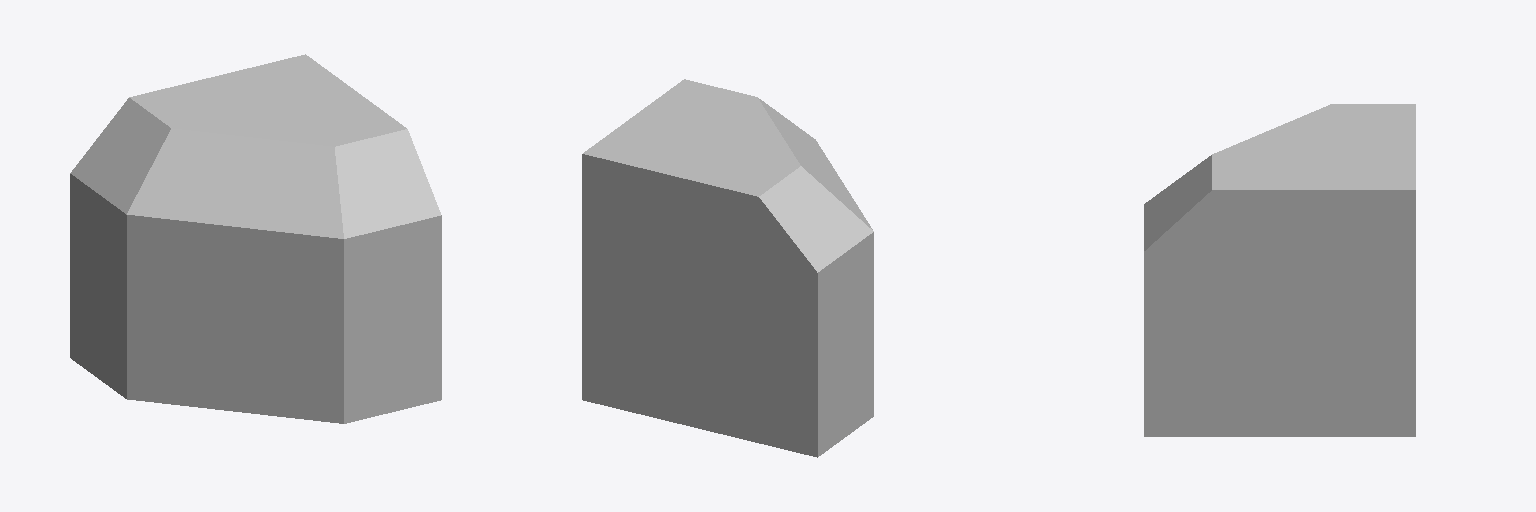
Rendered from struct_wall_joint_base.obj.
3 views of the same model, side by side, from view 1: azimuth 30°, elevation 25°; view 2: azimuth 150°, elevation 25°; view 3: azimuth 270°, elevation 25° (orthographic).
Visible parts, largest first — view 1: struct_wall_joint_base; view 2: struct_wall_joint_base; view 3: struct_wall_joint_base.
Boxes of the visible parts, x1=… form: struct_wall_joint_base: x1=70, y1=54, x2=441, y2=423; struct_wall_joint_base: x1=582, y1=79, x2=873, y2=457; struct_wall_joint_base: x1=1144, y1=104, x2=1415, y2=436.
Size of the model in its own units: 0.2 by 0.2 by 0.2.